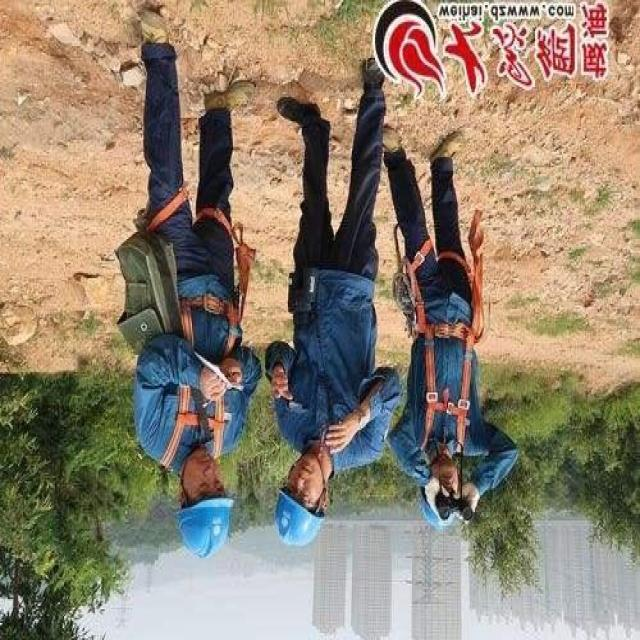helmet: (173, 489, 235, 568), (266, 492, 323, 559)
